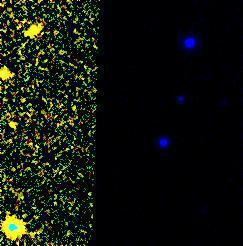star: (22, 13, 52, 43)
